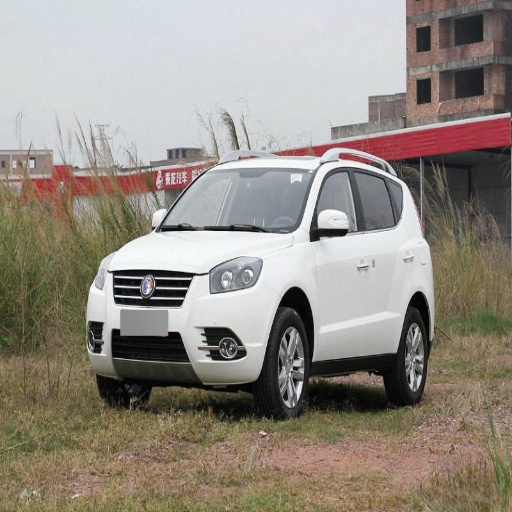front_bumper: (84, 268, 278, 386)
front_glass: (157, 168, 315, 233)
front_left_door: (309, 164, 374, 355)
